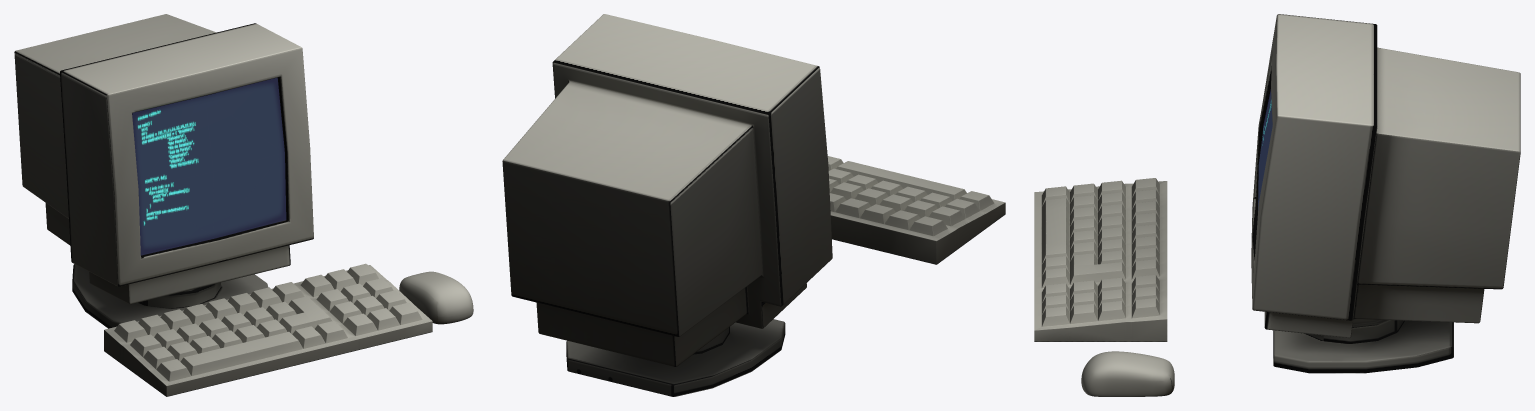
Rendered from old-pc.glb.
The picture shows the model from 3 angles, left to right: view 1: azimuth 30°, elevation 25°; view 2: azimuth 150°, elevation 25°; view 3: azimuth 270°, elevation 25°; orthographic projection. The views are drawn at different scales.
Parts seen in each view (by area): view 1: Cube, keyboard, mouse; view 2: Cube, keyboard; view 3: Cube, keyboard, mouse.
Part boxes in pixels (x1,y1,x2,y2): Cube: (14, 14, 313, 328); keyboard: (104, 263, 432, 396); mouse: (399, 271, 473, 324); Cube: (502, 14, 832, 396); keyboard: (827, 156, 1005, 264); Cube: (1251, 14, 1520, 373); keyboard: (1034, 178, 1167, 341); mouse: (1081, 351, 1174, 396).
Bounding box in the file's own units: 3.79 × 2.72 × 4.47.
3 materials, 3 textured.
